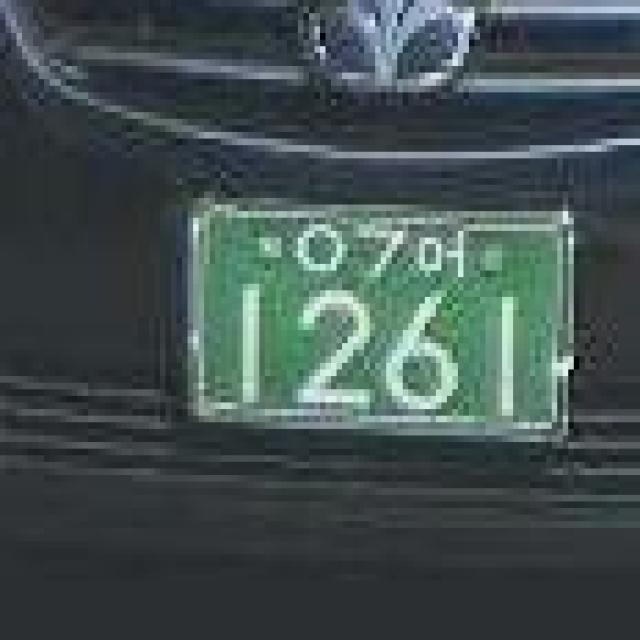illegal_plate: (167, 180, 587, 460)
